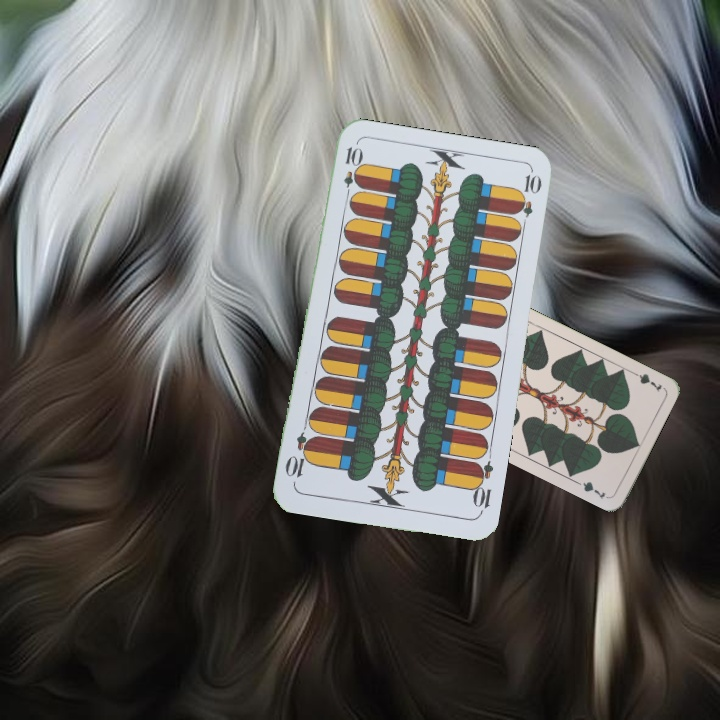E10: (468, 458, 496, 517), (339, 143, 362, 202)
G7: (627, 367, 665, 394)
